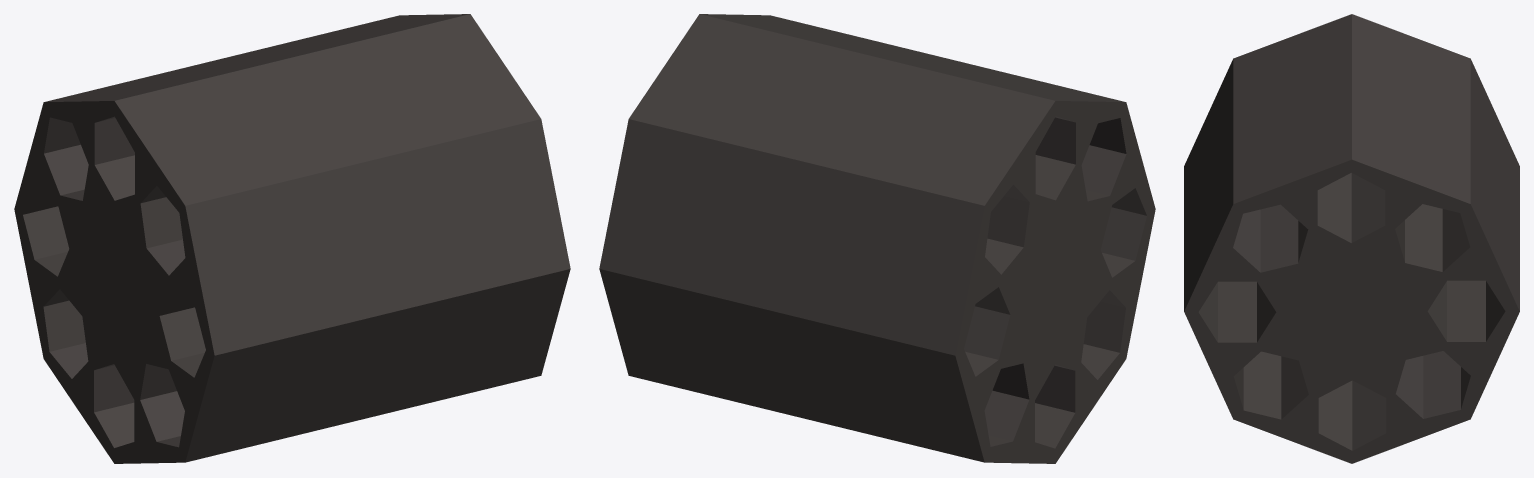
The model's file is Pistol5_06_2.fbx.
3 renders of one model, left to right at view 1: azimuth 30°, elevation 25°; view 2: azimuth 150°, elevation 25°; view 3: azimuth 270°, elevation 25°, orthographic. The views are drawn at different scales.
Visible parts, largest first — view 1: Pistol5_06_2; view 2: Pistol5_06_2; view 3: Pistol5_06_2.
Part boxes in pixels (x1,y1,x2,y2): Pistol5_06_2: (14,14,570,463); Pistol5_06_2: (599,14,1155,463); Pistol5_06_2: (1184,14,1519,463).
Bounding box in the file's own units: 0.0511 × 0.0498 × 0.0498.
